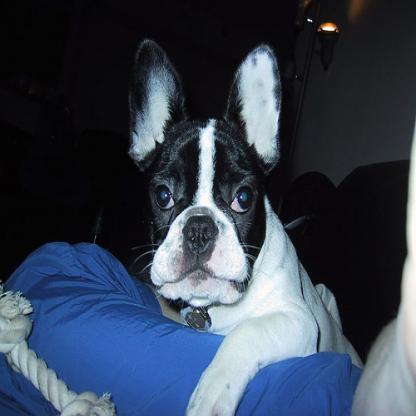French_bulldog: (127, 38, 366, 414)
